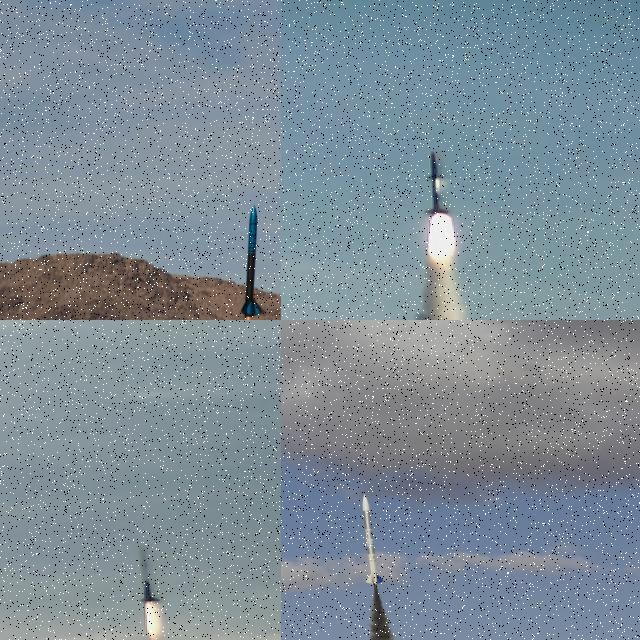Rocket: (240, 204, 264, 318), (362, 494, 384, 585), (424, 152, 450, 214), (138, 546, 160, 602)
